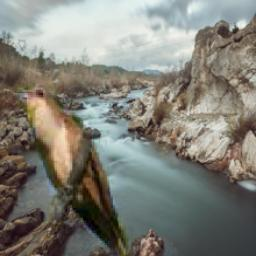Cuckoo: (19, 83, 134, 256)
